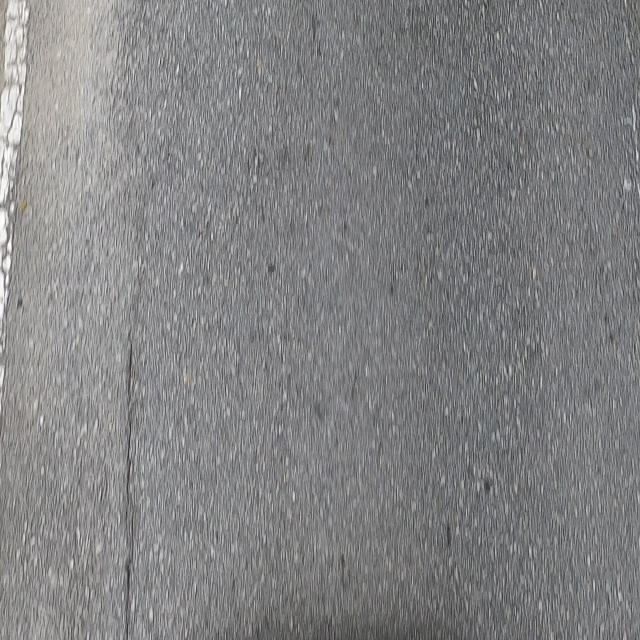Retak-Buaya: (0, 0, 33, 329)
Retak-Memanjang: (117, 342, 141, 638)
